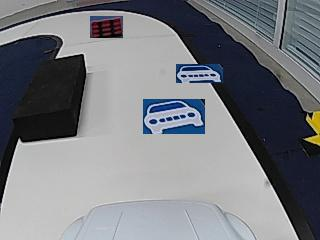block: (15, 54, 84, 141)
